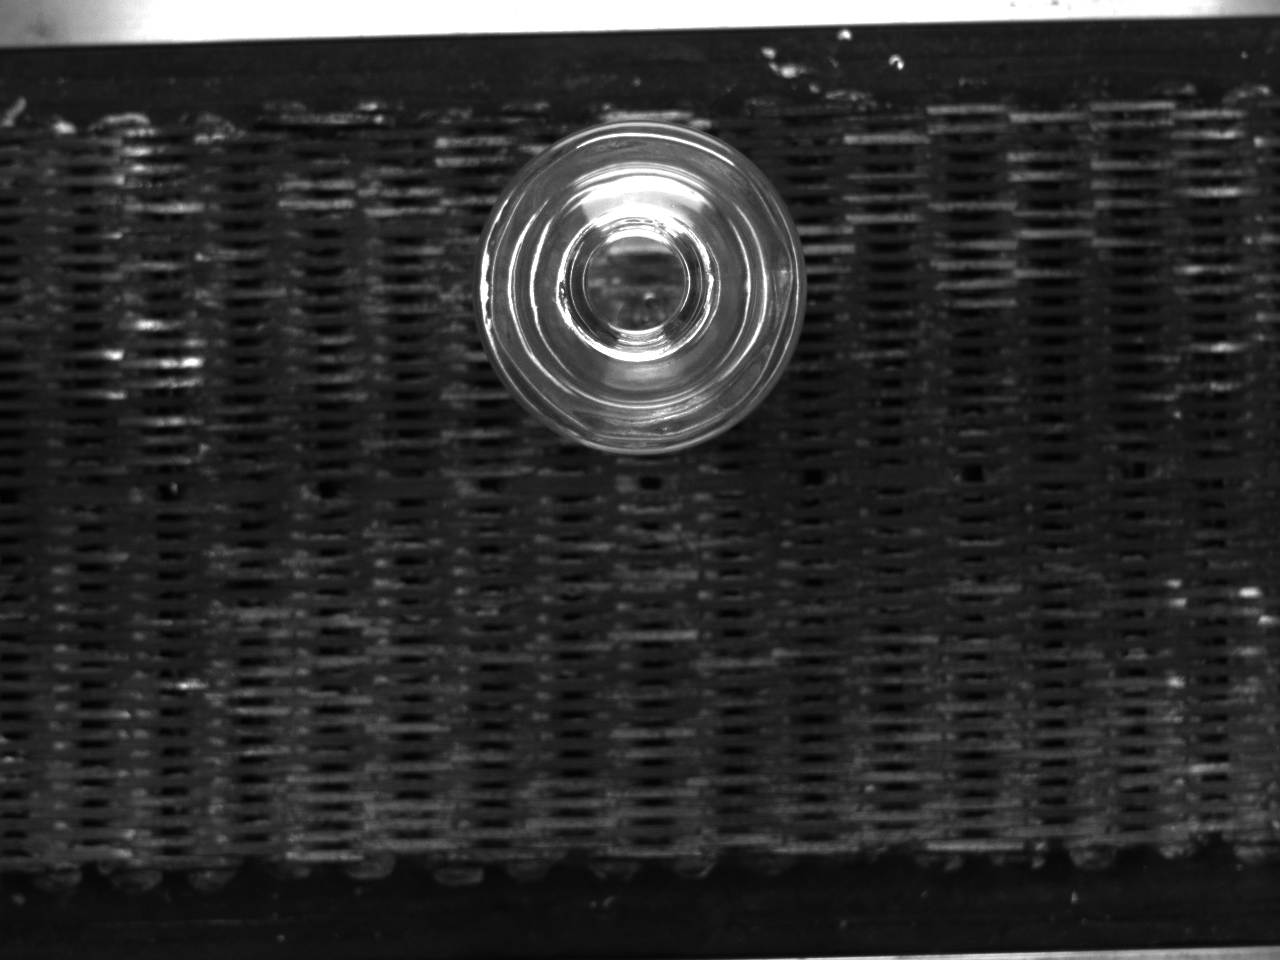bottleneck: (560, 208, 714, 362)
